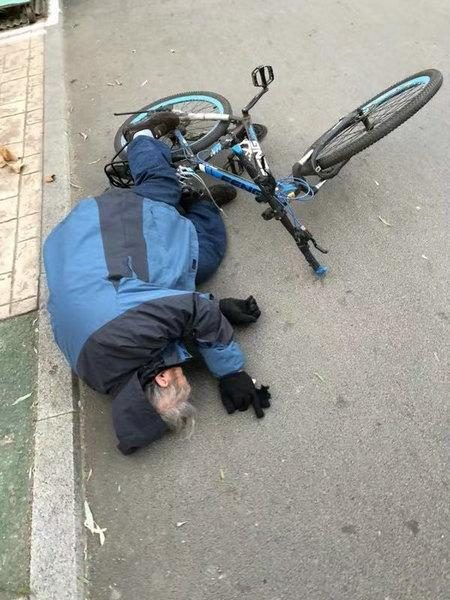fall: (34, 82, 269, 471)
